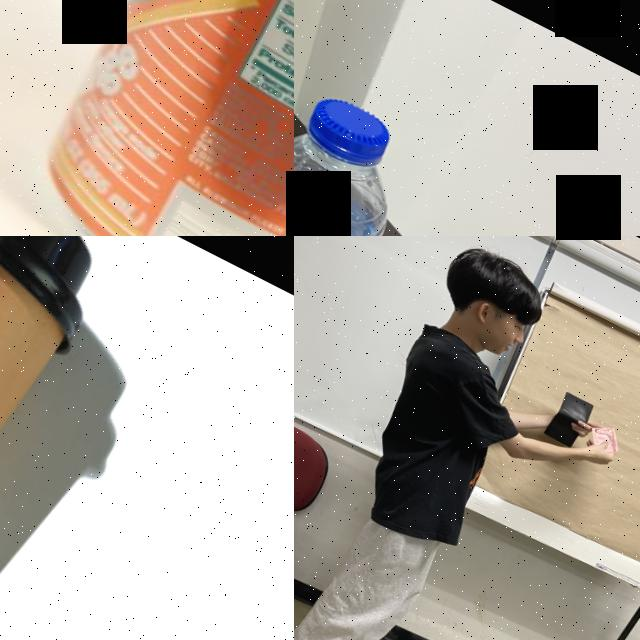bottle: (294, 65, 443, 236)
can: (3, 0, 294, 236)
cup: (0, 236, 134, 640)
